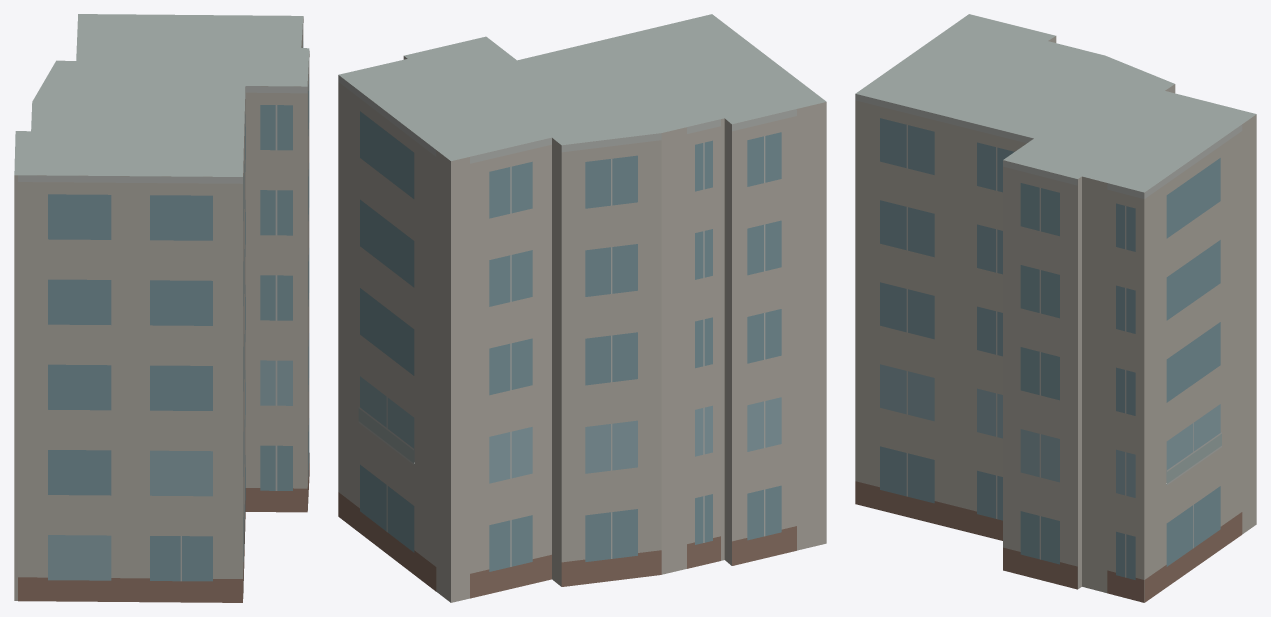
Rendered from survey-upis-32710757.glb.
3 renders of one model, left to right at view 1: azimuth 30°, elevation 25°; view 2: azimuth 150°, elevation 25°; view 3: azimuth 270°, elevation 25°, orthographic. The views are drawn at different scales.
Parts seen in each view (by area): view 1: survey-upis-32710757.tmp; view 2: survey-upis-32710757.tmp; view 3: survey-upis-32710757.tmp.
Part boxes in pixels (box(x1,y1,x2,y2)): survey-upis-32710757.tmp: box(14, 14, 309, 602); survey-upis-32710757.tmp: box(338, 14, 826, 602); survey-upis-32710757.tmp: box(855, 14, 1256, 602).
Bounding box in the file's own units: 14.24 × 15.25 × 13.53.
